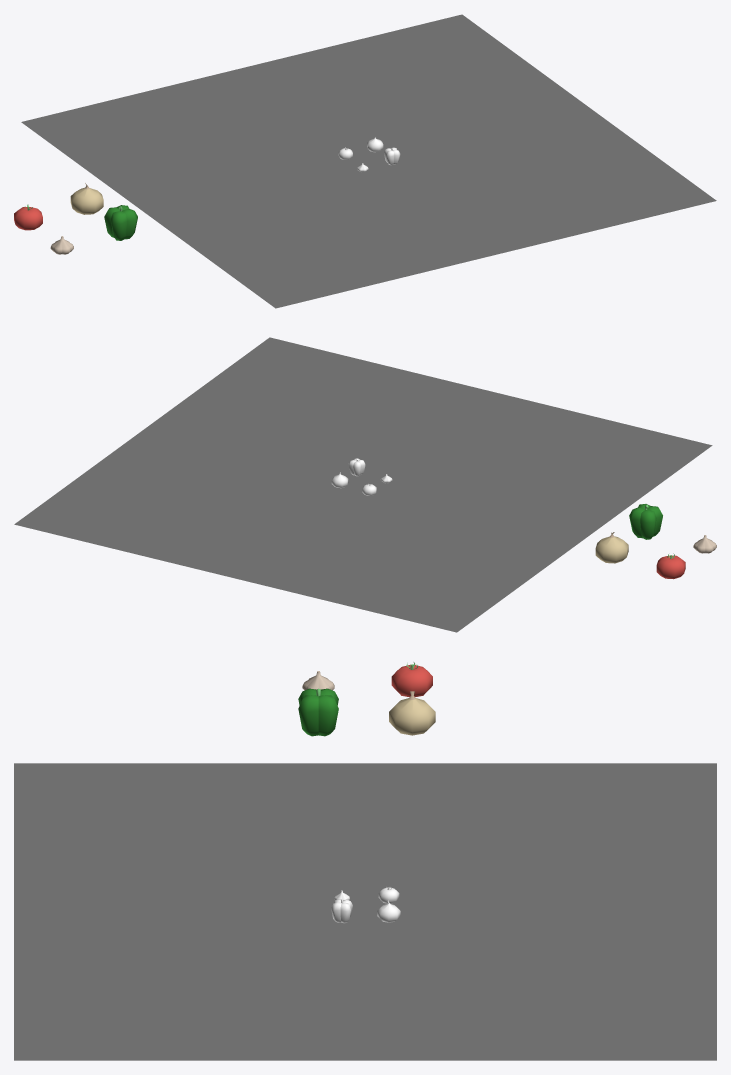
Rendered from food_pack_cooking_0.fbx.
3 views of the same model, one above another, from view 1: azimuth 30°, elevation 25°; view 2: azimuth 150°, elevation 25°; view 3: azimuth 270°, elevation 25° (orthographic). The views are drawn at different scales.
Parts seen in each view (by area): view 1: Plane, BellPepper.001, Onion.001, Tomato.001; view 2: Plane, BellPepper.001, Onion.001, Tomato.001; view 3: Plane, BellPepper.001, Onion.001, Tomato.001.
Boxes of the visible parts, left/top/right/bottom form: Plane: left=21, top=14, right=716, bottom=308; BellPepper.001: left=104, top=205, right=137, bottom=240; Onion.001: left=70, top=183, right=103, bottom=214; Tomato.001: left=14, top=204, right=42, bottom=230; Plane: left=14, top=337, right=712, bottom=632; BellPepper.001: left=629, top=504, right=662, bottom=539; Onion.001: left=595, top=532, right=628, bottom=563; Tomato.001: left=656, top=553, right=685, bottom=579; Plane: left=14, top=763, right=716, bottom=1060; BellPepper.001: left=298, top=688, right=338, bottom=736; Onion.001: left=389, top=691, right=435, bottom=735; Tomato.001: left=391, top=662, right=432, bottom=697.
Size of the model in its own units: 37.88 by 2.12 by 30.
